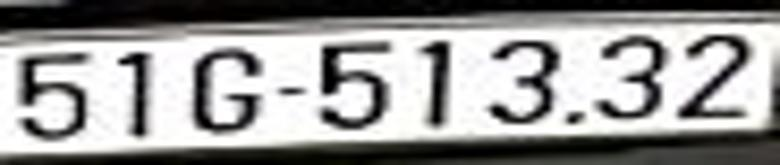-: (279, 89, 302, 96)
.: (568, 110, 580, 123)
1: (119, 50, 149, 137), (424, 42, 449, 125)
2: (681, 34, 748, 117)
3: (492, 39, 554, 123), (601, 35, 661, 118)
5: (321, 44, 389, 129), (21, 53, 85, 139)
G: (194, 47, 258, 133)
